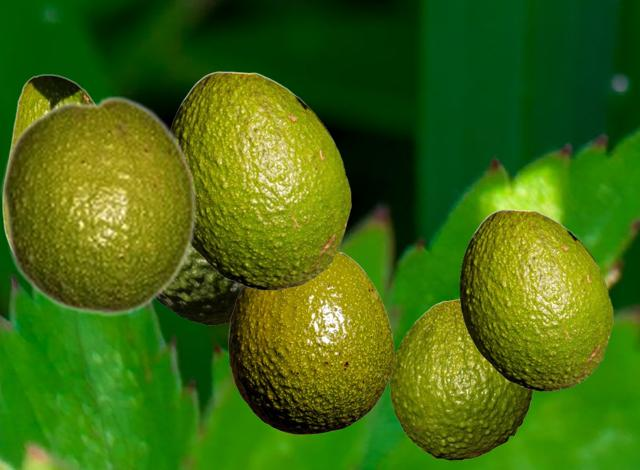avocado: (0, 94, 197, 317), (169, 71, 350, 289), (228, 252, 393, 433), (459, 209, 612, 390), (389, 298, 532, 459), (2, 74, 94, 246), (156, 248, 240, 324)
